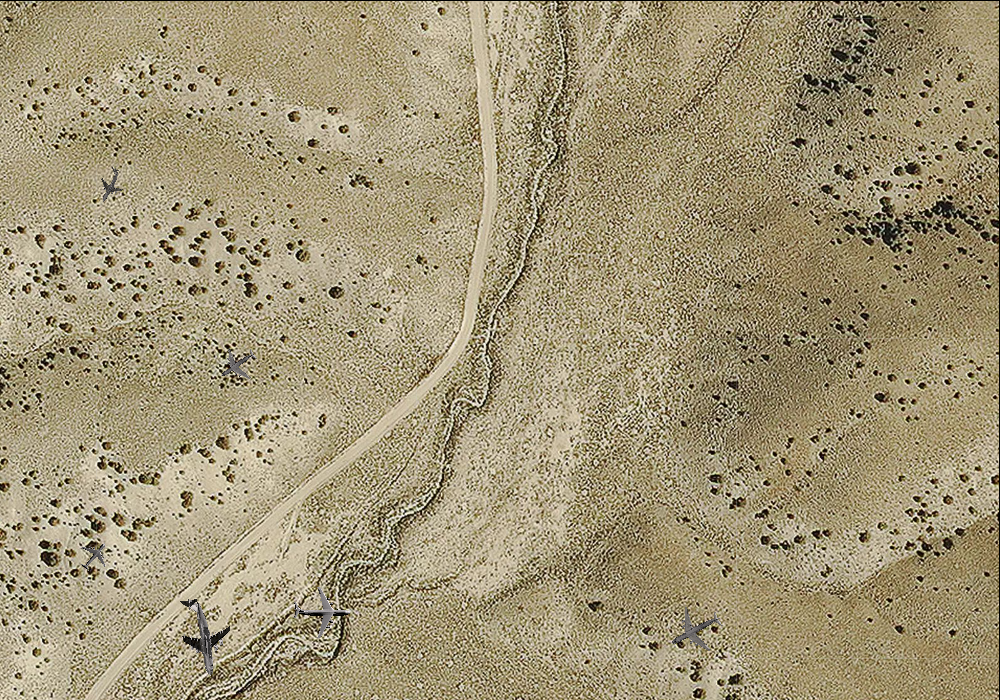plane: (161, 592, 239, 681), (659, 595, 732, 666), (292, 584, 350, 639), (210, 337, 265, 391), (71, 533, 116, 578), (87, 161, 131, 207)
